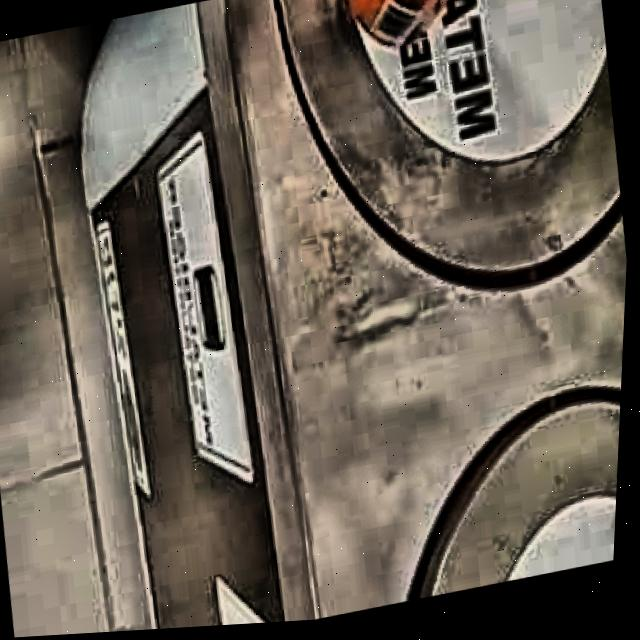metal: (345, 0, 449, 52)
